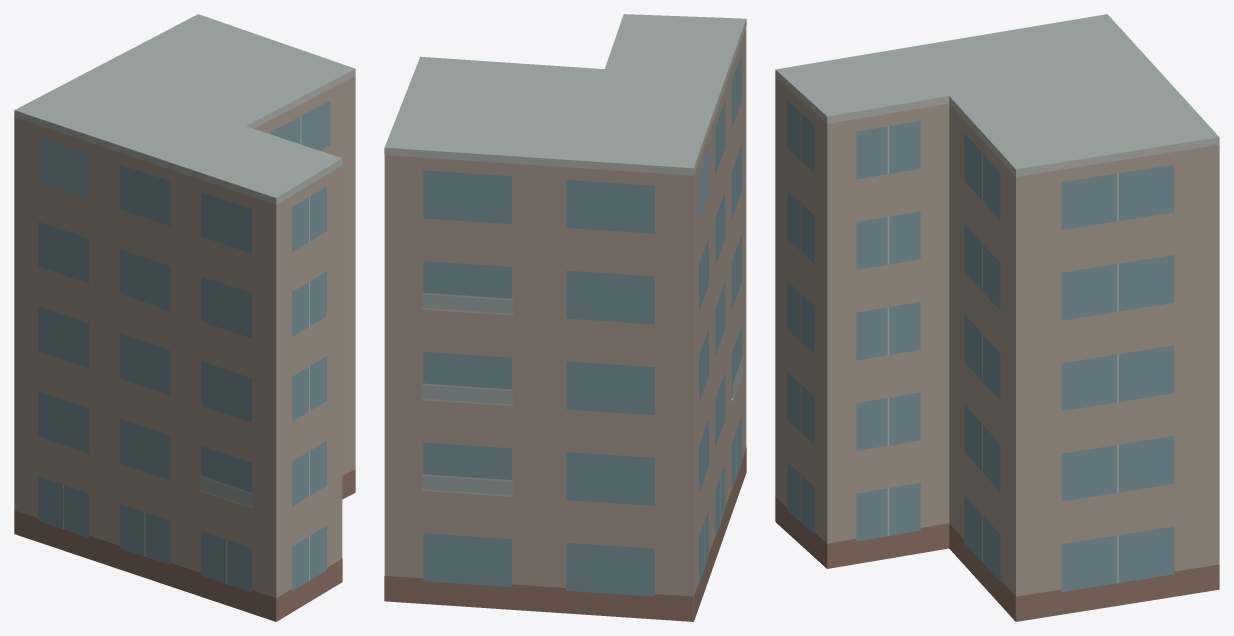
Rendered from survey-upis-32927738.glb.
The picture shows the model from 3 angles, left to right: view 1: azimuth 30°, elevation 25°; view 2: azimuth 150°, elevation 25°; view 3: azimuth 270°, elevation 25°; orthographic projection. The views are drawn at different scales.
Parts seen in each view (by area): view 1: survey-upis-32927738.tmp; view 2: survey-upis-32927738.tmp; view 3: survey-upis-32927738.tmp.
Boxes of the visible parts, bbox=[...] form: survey-upis-32927738.tmp: bbox=[14, 14, 355, 621]; survey-upis-32927738.tmp: bbox=[384, 14, 746, 621]; survey-upis-32927738.tmp: bbox=[775, 14, 1219, 621].
Bounding box in the file's own units: 10.96 × 14.85 × 13.23.
